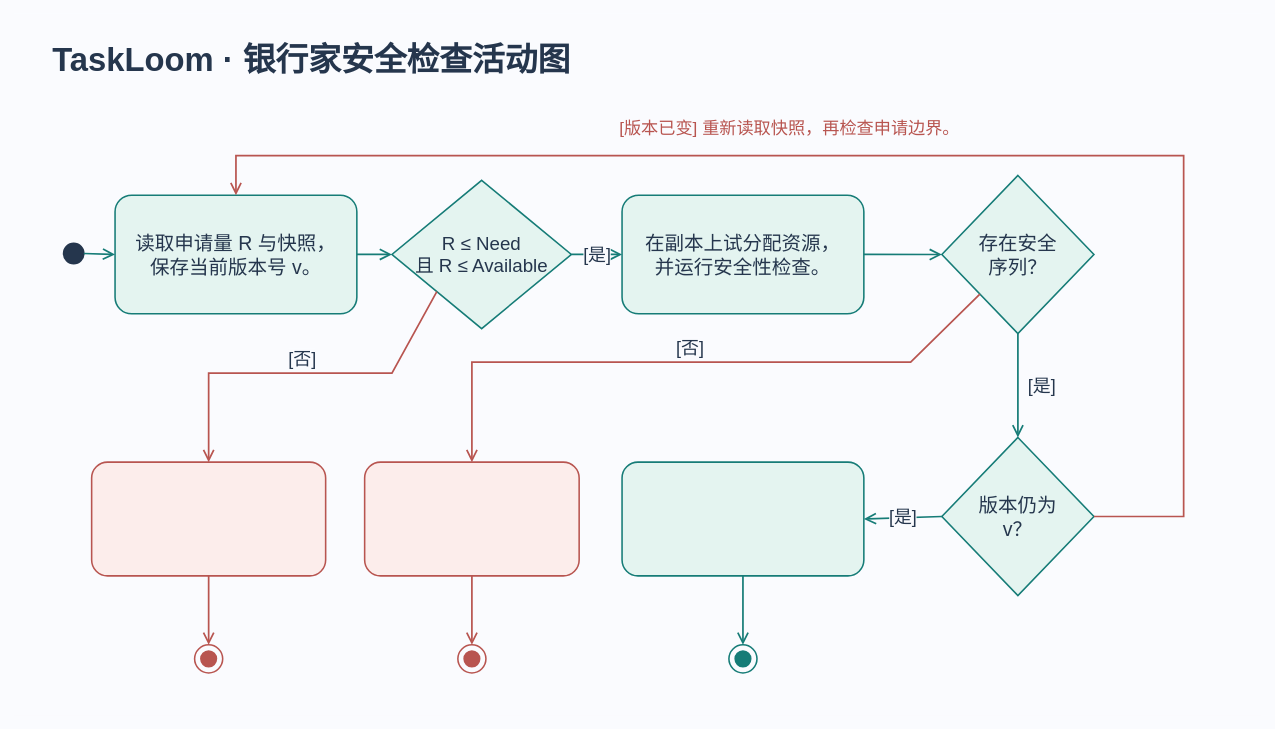
This 1275x729 diagram has some shape labels left out. The centre of each missing label's shape, as x and y in pixels:
"保持真实账本不变。 资源改变后重新申请。" belongs at (471,518).
"原子提交资源预留。 随后允许申请者继续。" belongs at (742,518).
"拒绝越界申请或暂缓。 调整上限需重新核验。" belongs at (208,518).
